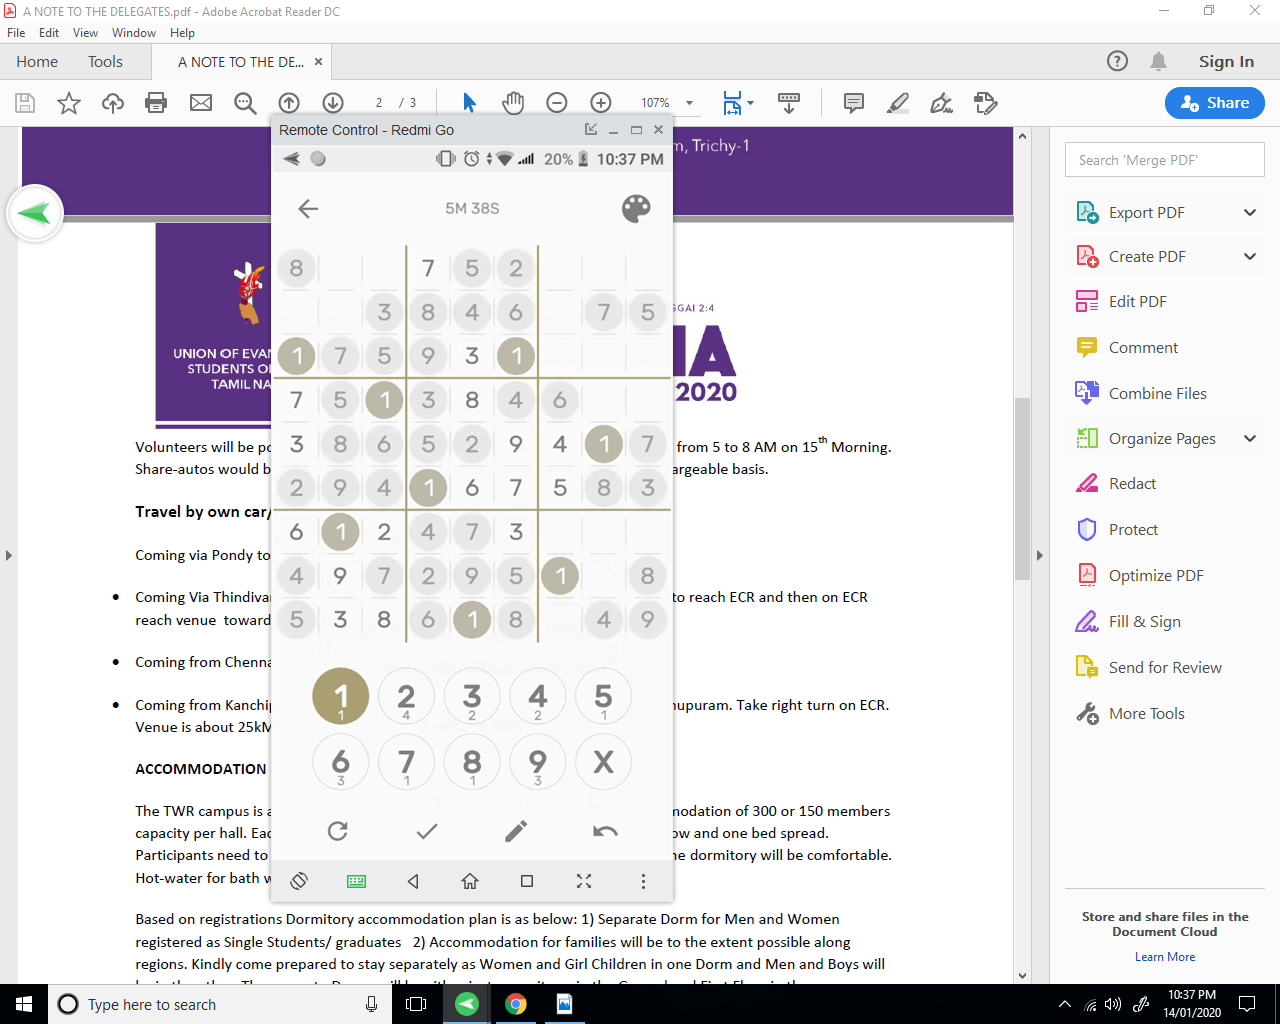1A: (490, 330, 541, 380), (275, 332, 320, 378)
2N: (408, 553, 451, 601), (490, 245, 536, 287), (272, 463, 318, 505), (451, 420, 493, 466), (366, 510, 402, 548)
3N: (620, 466, 669, 511), (494, 510, 539, 554), (408, 378, 450, 417), (272, 427, 320, 457)
box: (270, 141, 672, 860)
